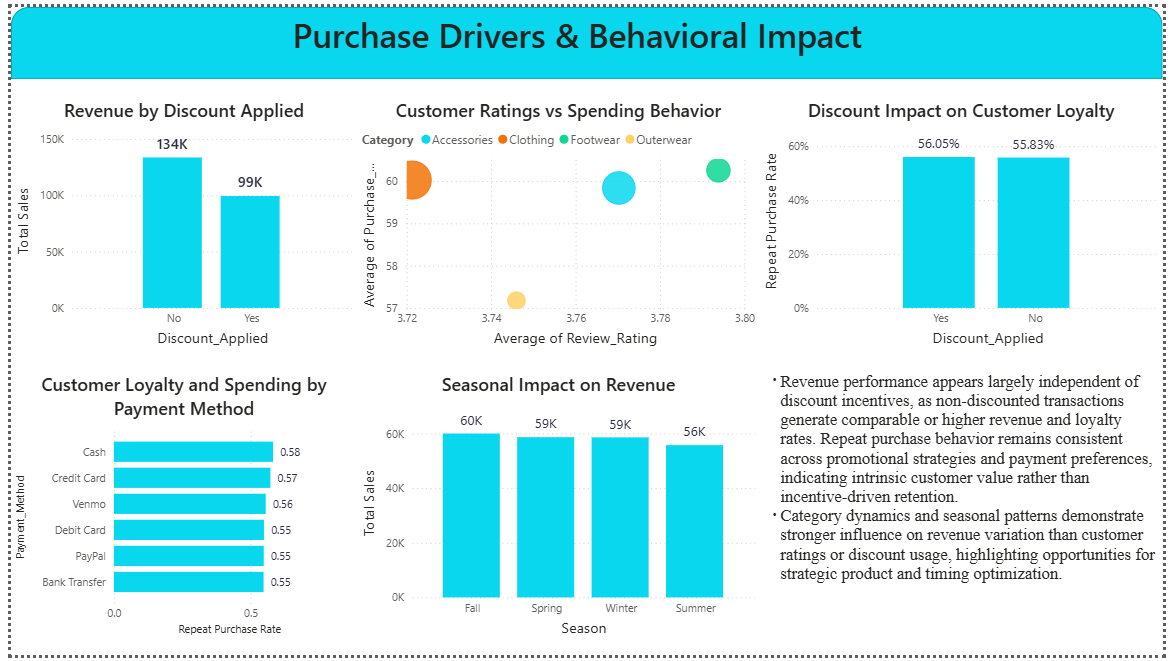

This screenshot's page, from the dashboard's own definition file:
{"tool":"powerbi","page":{"name":"Purchase Drivers & Behavioral Impact","canvas":[1280,720],"ordinal":2},"visuals":[{"type":"shape","box":[0,0,1279.5,80.3],"z":0},{"type":"clusteredColumnChart","title":"Revenue by Discount Applied","fields":{"Category":["customer_shopping_behavior.Discount_Applied"],"Y":["Calculated_Measures.Total Sales"]},"box":[0,95.4,384.6,287.7],"z":1000},{"type":"clusteredColumnChart","title":"Discount Impact on Customer Loyalty","fields":{"Category":["customer_shopping_behavior.Discount_Applied"],"Y":["Calculated_Measures.Repeat Purchase Rate"]},"box":[831.3,95.4,448.2,287.7],"z":2000},{"type":"scatterChart","title":"Customer Ratings vs Spending Behavior","fields":{"X":["Avg(customer_shopping_behavior.Review_Rating)"],"Y":["Avg(customer_shopping_behavior.Purchase_Amount)"],"Series":["customer_shopping_behavior.Category"],"Size":["Calculated_Measures.Total Sales"],"Category":["customer_shopping_behavior.Category"]},"box":[384.6,95.4,446.7,287.7],"z":3000},{"type":"clusteredBarChart","title":"Customer Loyalty and Spending by Payment Method","fields":{"Category":["customer_shopping_behavior.Payment_Method"],"Y":["Calculated_Measures.Repeat Purchase Rate"]},"box":[0,399.8,384.6,304.4],"z":4000},{"type":"columnChart","title":"Seasonal Impact on Revenue","fields":{"Category":["customer_shopping_behavior.Season"],"Y":["Calculated_Measures.Total Sales"]},"box":[384.6,399.8,446.7,304.4],"z":5000},{"type":"textbox","box":[832,400,448,304],"z":6000},{"type":"textbox","box":[0,0,1258.3,80.3],"z":7000}]}

Visuals, with their boxes in screenshot pixels (x1, y1, x2, y2), scaled from the page's 1280x720 canvas onto the 1176x661 screenshot:
shape: region(0, 0, 1175, 74)
"Revenue by Discount Applied" clusteredColumnChart: region(0, 88, 353, 352)
"Discount Impact on Customer Loyalty" clusteredColumnChart: region(764, 88, 1175, 352)
"Customer Ratings vs Spending Behavior" scatterChart: region(353, 88, 764, 352)
"Customer Loyalty and Spending by Payment Method" clusteredBarChart: region(0, 367, 353, 646)
"Seasonal Impact on Revenue" columnChart: region(353, 367, 764, 646)
textbox: region(764, 367, 1175, 646)
textbox: region(0, 0, 1156, 74)
